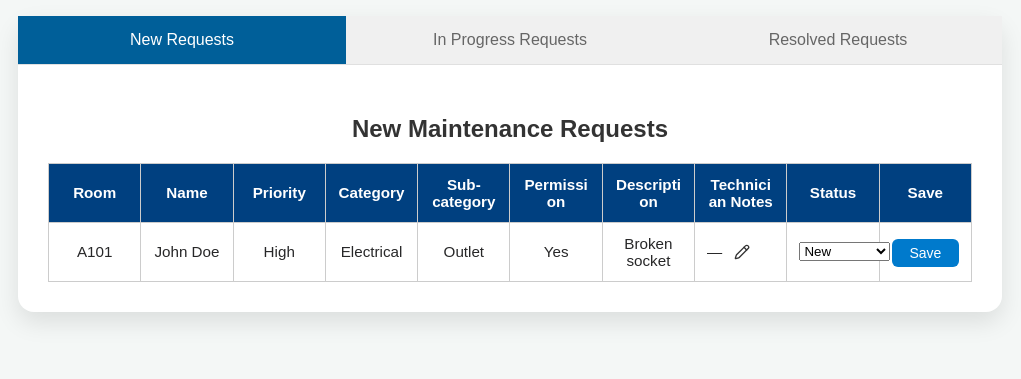
Scenario: AdminMaintenancePanel › displays error on failed save
This screenshot has width=1021, height=379.
Expected: the text "John Doe" is shown, x1=141 y1=222 x2=233 y2=281
Click the button "Save" at (925, 253), box x1=892 y1=239 x2=959 y2=267
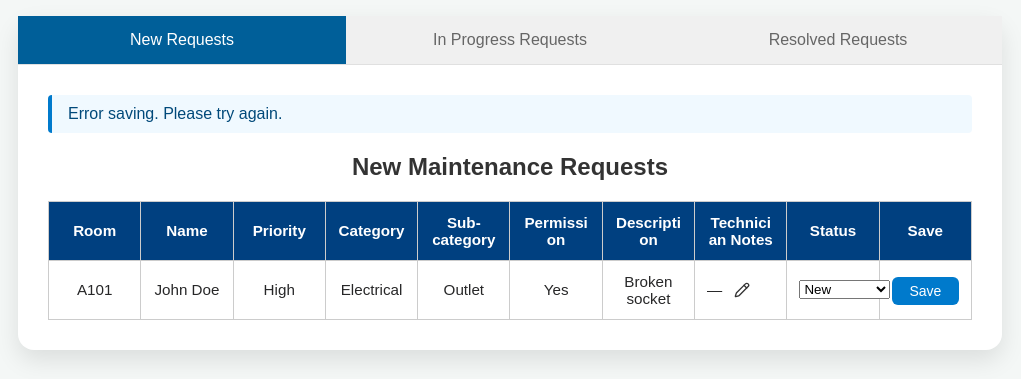
Now the text "Error saving. Please try again." is shown, box x1=48 y1=95 x2=972 y2=133
